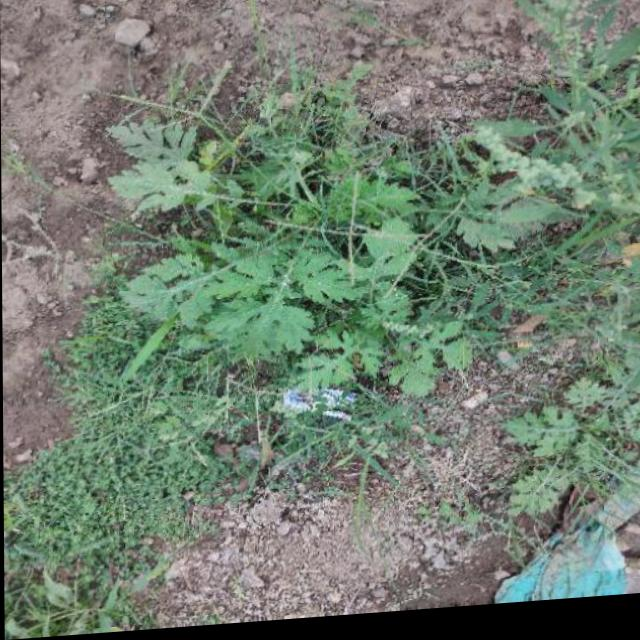weed: (112, 3, 640, 535)
